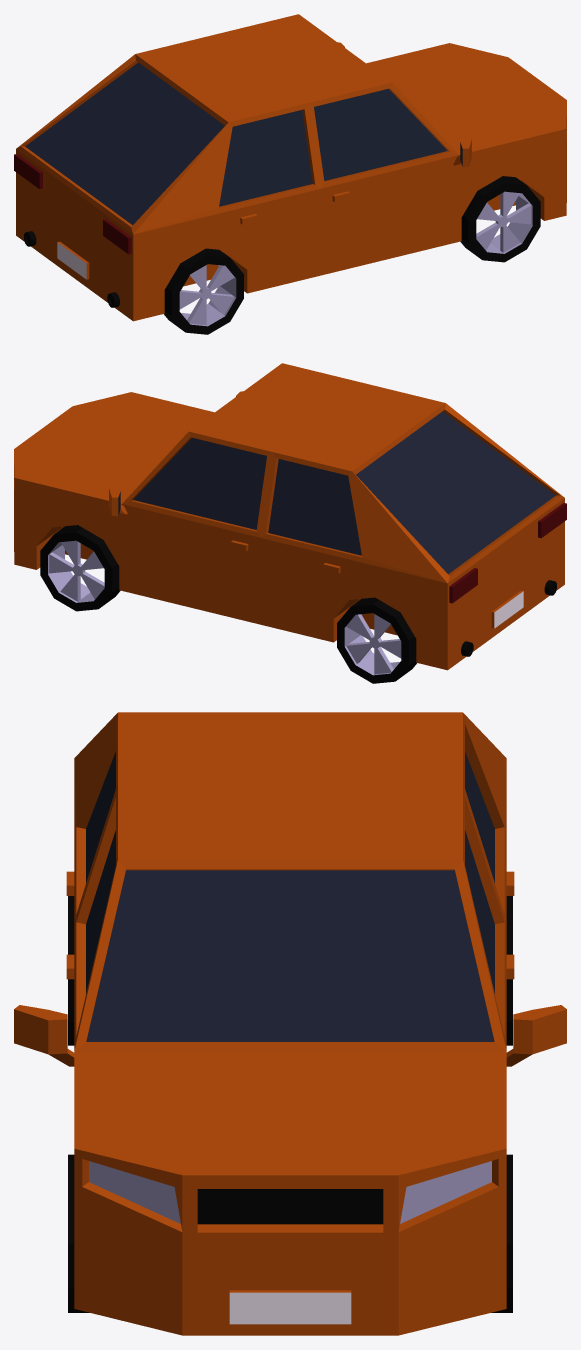
The model's file is hatch.glb.
3 renders of one model, top to bottom at view 1: azimuth 30°, elevation 25°; view 2: azimuth 150°, elevation 25°; view 3: azimuth 270°, elevation 25°, orthographic. The views are drawn at different scales.
Parts seen in each view (by area): view 1: body_paint, body_glass, wheel_fr_tire (×2), wheel_rr_tire (×2), wheel_rr_rim (×2), wheel_fr_rim, body_tail, body_chrome; view 2: body_paint, body_glass, wheel_fl_tire (×2), wheel_rl_tire (×2), wheel_rl_rim (×2), wheel_fl_rim, body_tail, body_chrome; view 3: body_paint, body_glass, body_trim, body_lamp, body_chrome, wheel_rl_tire, wheel_rr_tire.
Part boxes in pixels (<box>): body_paint: <box>16,14,566,321</box>; body_glass: <box>25,62,462,225</box>; wheel_fr_tire (×2): <box>460,176,540,262</box>; wheel_rr_tire (×2): <box>164,248,243,334</box>; wheel_rr_rim (×2): <box>179,265,236,326</box>; wheel_fr_rim: <box>476,191,532,253</box>; body_tail: <box>14,154,131,254</box>; body_chrome: <box>57,242,86,279</box>; body_paint: <box>14,363,564,670</box>; body_glass: <box>118,411,555,574</box>; wheel_fl_tire (×2): <box>40,525,120,611</box>; wheel_rl_tire (×2): <box>337,597,416,683</box>; wheel_rl_rim (×2): <box>344,614,401,675</box>; wheel_fl_rim: <box>48,540,104,602</box>; body_tail: <box>449,503,566,603</box>; body_chrome: <box>494,591,523,628</box>; body_paint: <box>14,712,566,1335</box>; body_glass: <box>86,751,494,1041</box>; body_trim: <box>197,1189,383,1224</box>; body_lamp: <box>89,1161,491,1223</box>; body_chrome: <box>229,1292,351,1324</box>; wheel_rl_tire: <box>506,896,512,1045</box>; wheel_rr_tire: <box>68,896,74,1045</box>.
Bounding box in the file's own units: 5.11 × 2.01 × 2.81.
